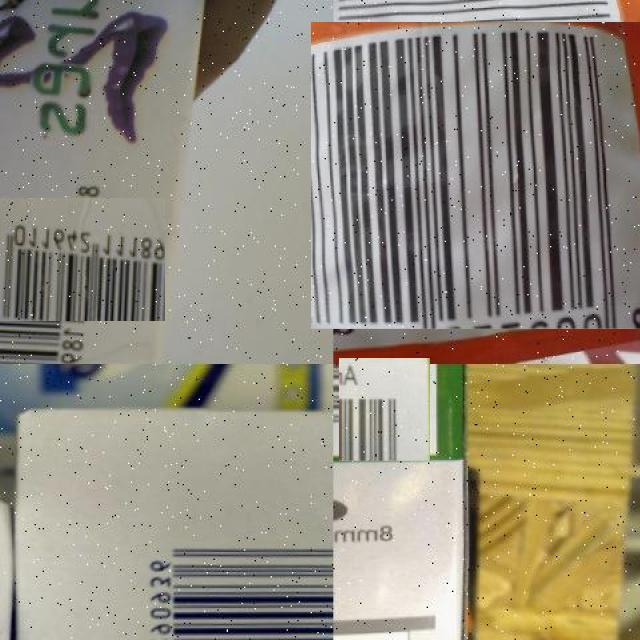Barcode: (323, 11, 640, 339), (0, 176, 145, 342), (131, 521, 333, 640), (336, 361, 433, 459)
